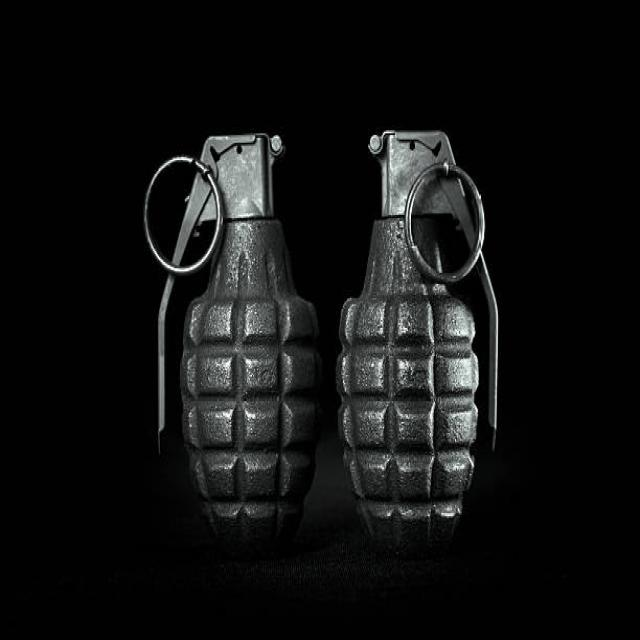grenade: (140, 126, 328, 568), (335, 124, 512, 559)
